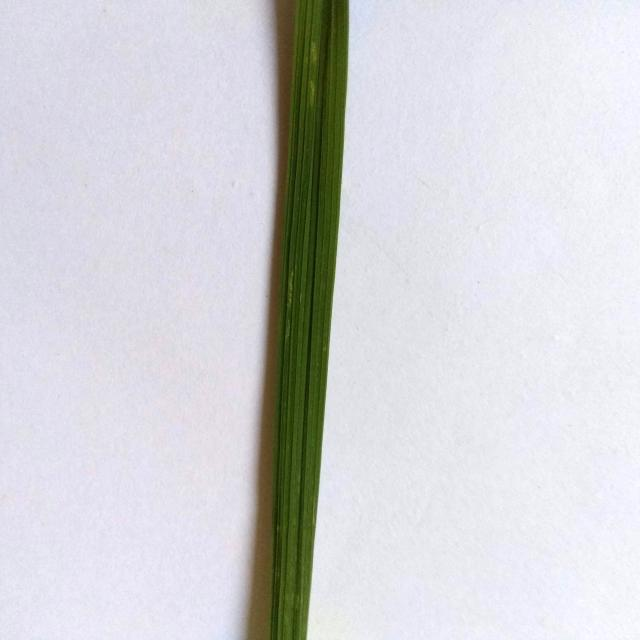Rice_Healthy: (270, 0, 349, 640)
